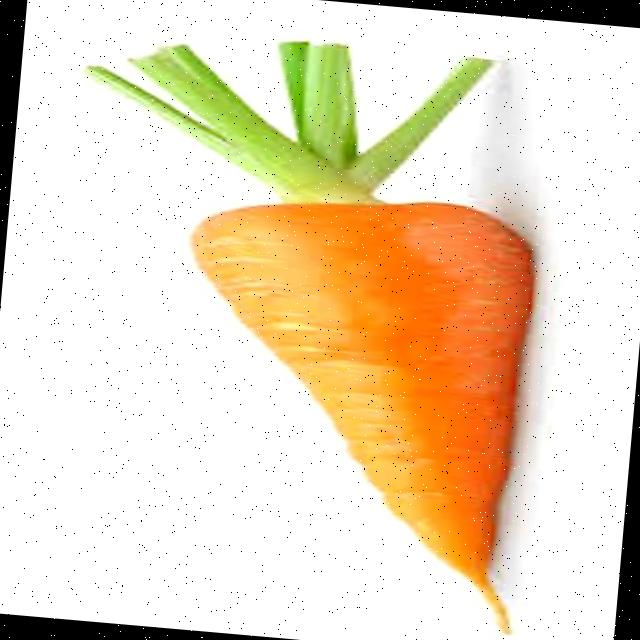carrot: (191, 201, 532, 628)
